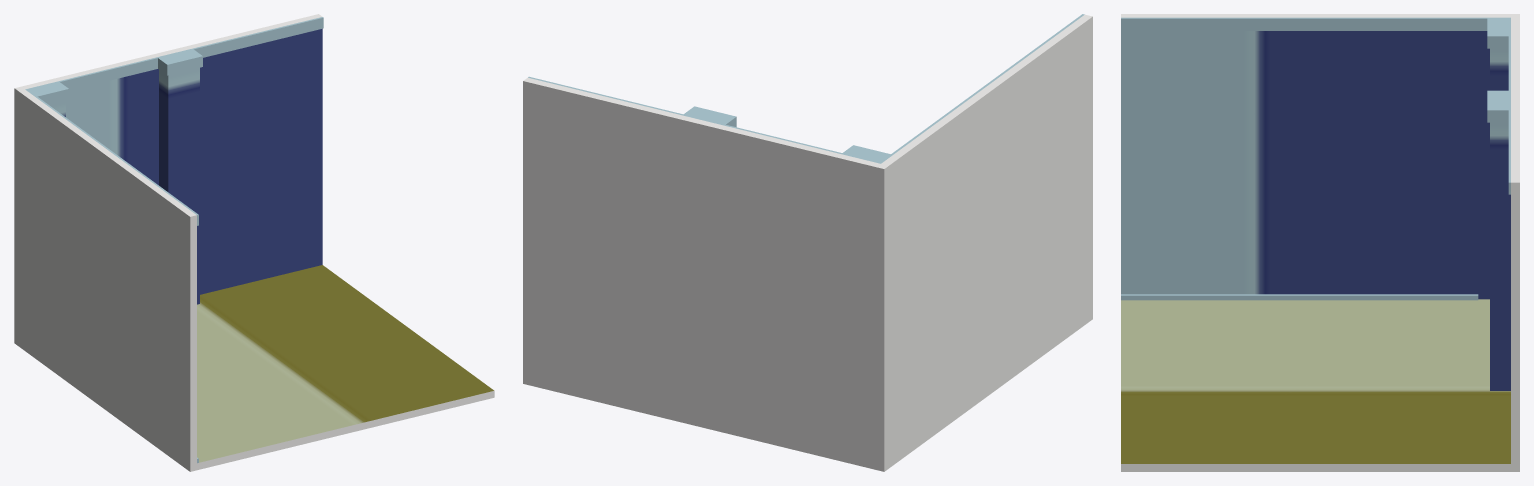
File: Office2_base.fbx
3 renders of one model, left to right at view 1: azimuth 30°, elevation 25°; view 2: azimuth 150°, elevation 25°; view 3: azimuth 270°, elevation 25°, orthographic. The views are drawn at different scales.
Visible parts, largest first — view 1: Office2_base; view 2: Office2_base; view 3: Office2_base.
Part boxes in pixels (x1=…): Office2_base: x1=14, y1=14, x2=494, y2=471; Office2_base: x1=523, y1=14, x2=1092, y2=471; Office2_base: x1=1121, y1=14, x2=1519, y2=471.
Size of the model in its own units: 500 by 401 by 500.
